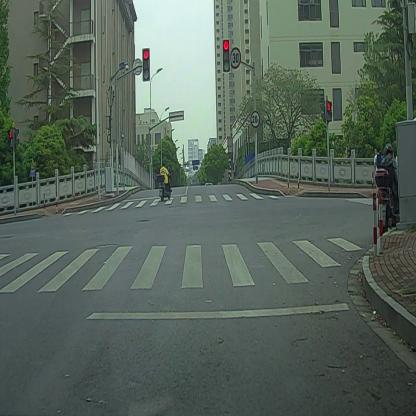Red Light: (222, 39, 231, 73), (143, 46, 150, 82)
